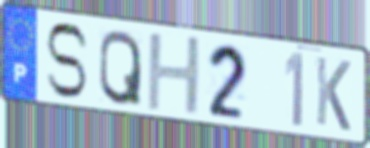1: (284, 50, 305, 128)
2: (203, 39, 251, 124)
H: (145, 32, 203, 117)
K: (314, 53, 353, 135)
Q: (97, 27, 144, 108)
S: (43, 20, 91, 101)
